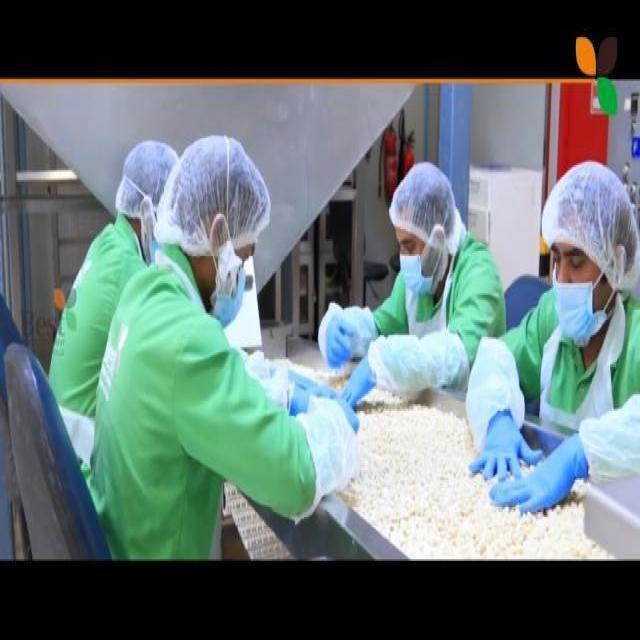gloved_hand: (488, 440, 605, 520), (470, 409, 533, 490), (337, 345, 388, 411), (315, 305, 359, 371), (287, 376, 342, 409), (333, 394, 367, 445)
